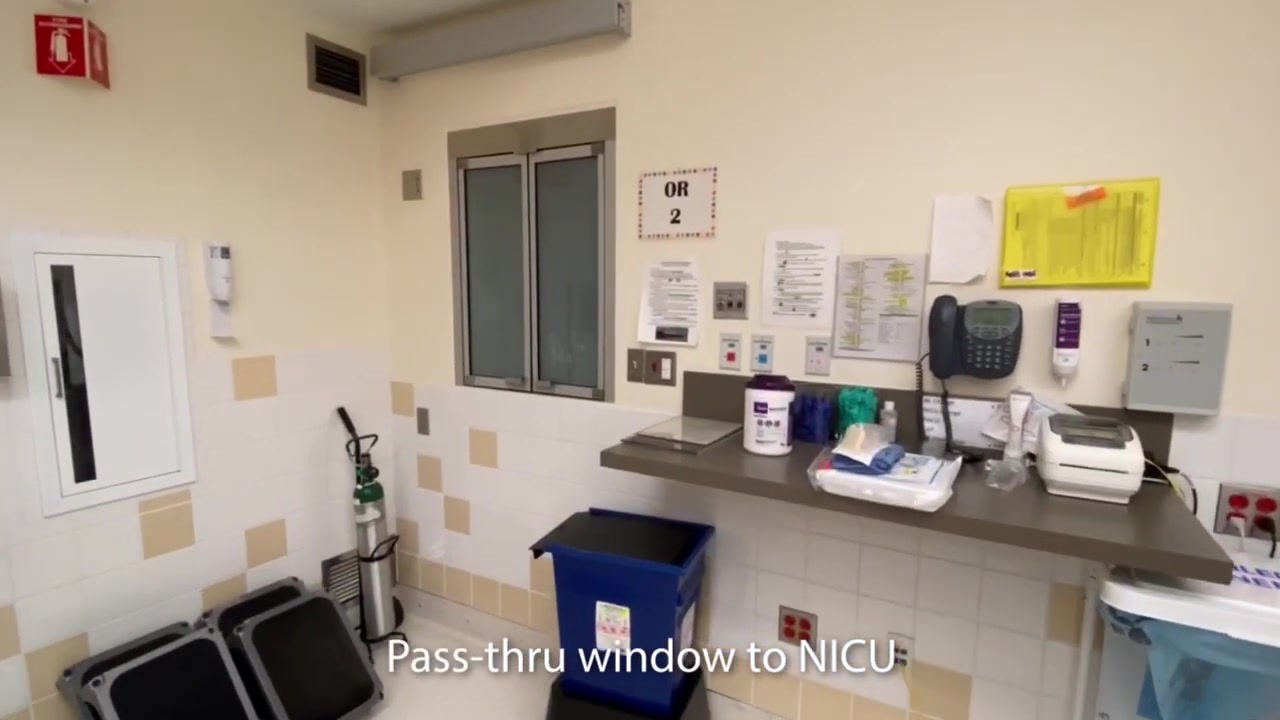countertop: (600, 404, 1235, 585)
dispenser: (201, 239, 238, 339)
handle: (42, 354, 70, 403), (534, 379, 554, 388), (506, 375, 523, 385)
light_switch: (628, 348, 649, 384)
telephone: (929, 295, 1024, 381)
waste_bin: (532, 504, 716, 720), (1096, 557, 1280, 720)
